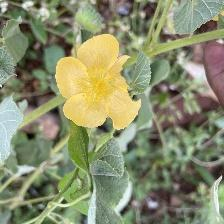indian mallow: (55, 34, 143, 133)
